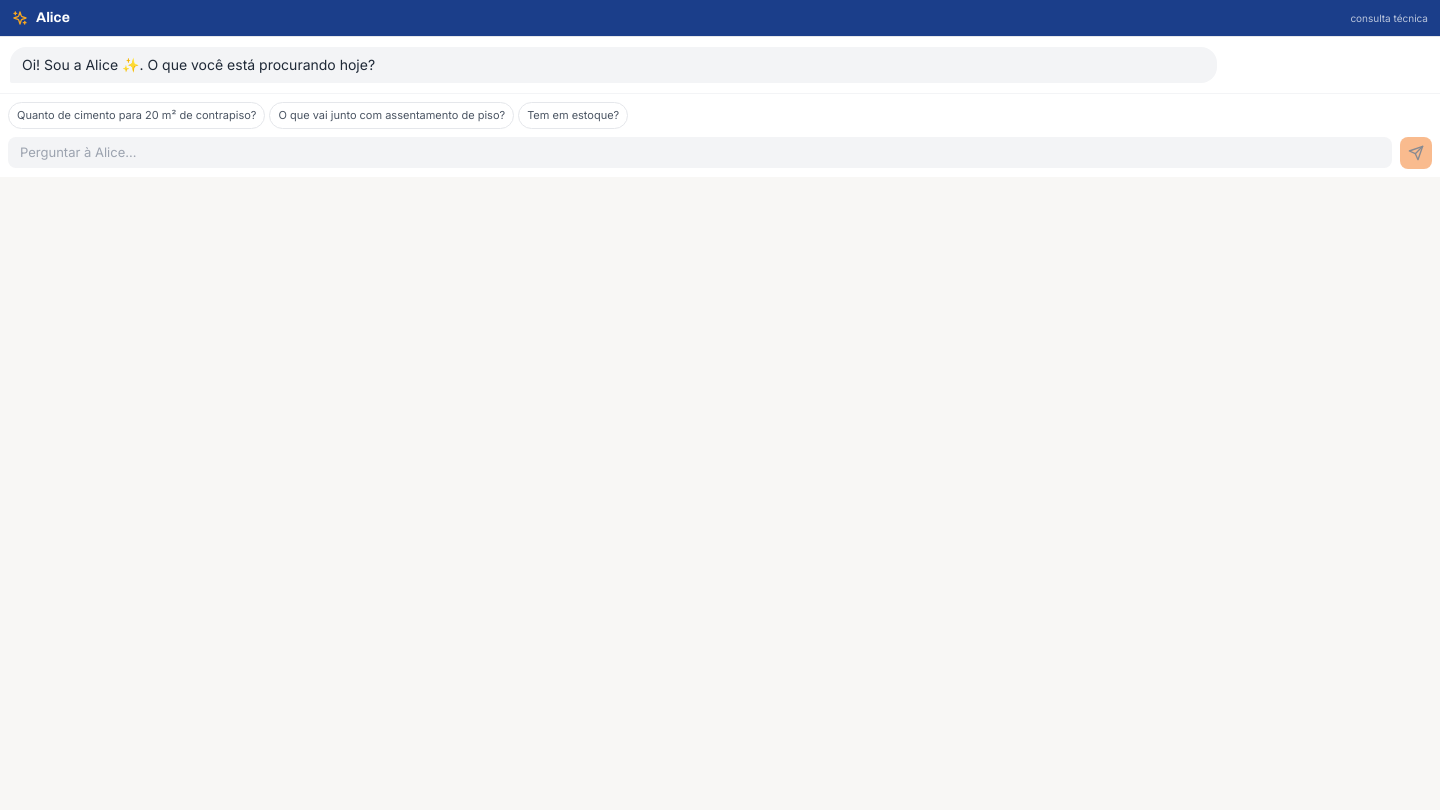
Test: AliceBalcao › atalho de pergunta dispara a conversa em 1 toque
Click the button "Quanto de cimento para 20 m² de contrapiso?" at [137, 115], box [8,102,265,128]
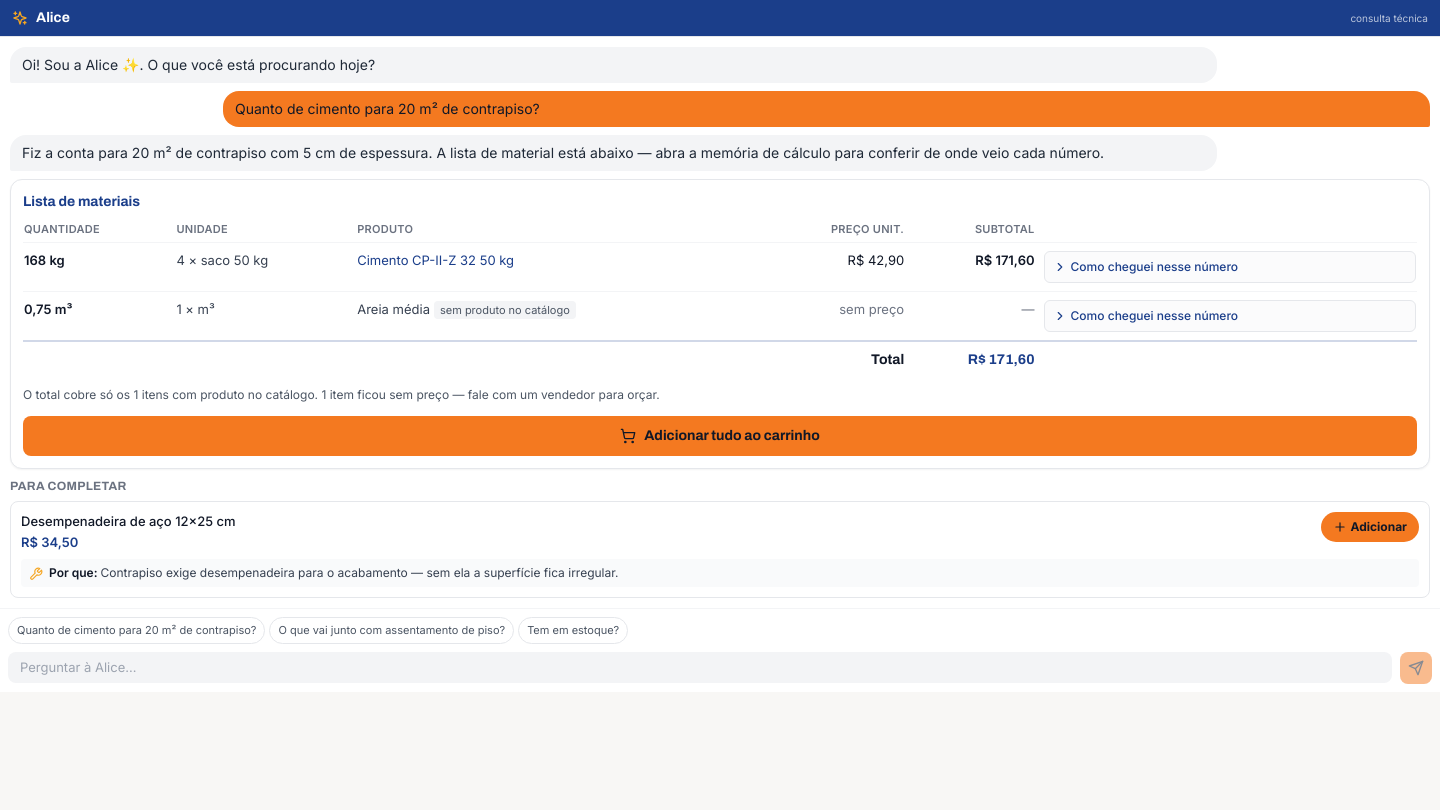
Now the element "Lista de materiais" is shown, box [10,179,1430,468]
